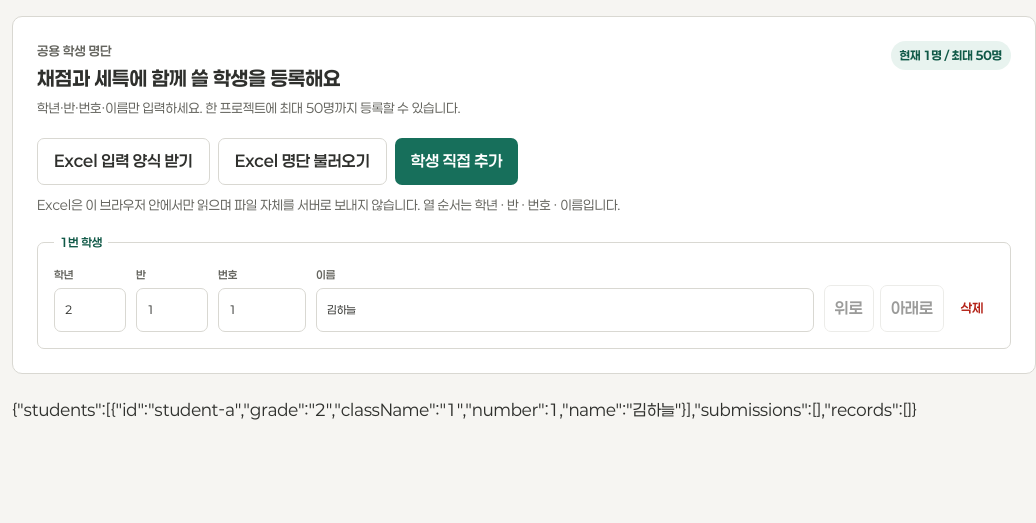
Test: Given a valid student When a required direct field is cleared Then malformed draft data is not persisted
The image size is (1036, 523).
Clear the field named "1번 학생 이름" at (565, 310), box x1=316 y1=288 x2=814 y2=332
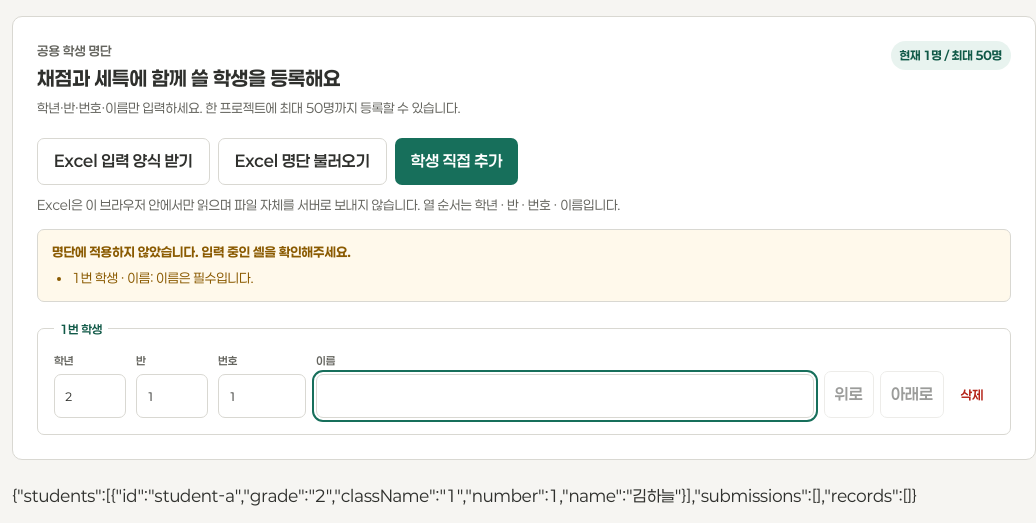
Expected: the text "명단에 적용하지 않았습니다. 입력 중인 셀을 확인해주세요." shows "1번 학생 · 이름", x1=37 y1=229 x2=1011 y2=302
